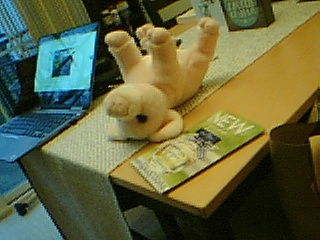piggy: (103, 16, 222, 144)
